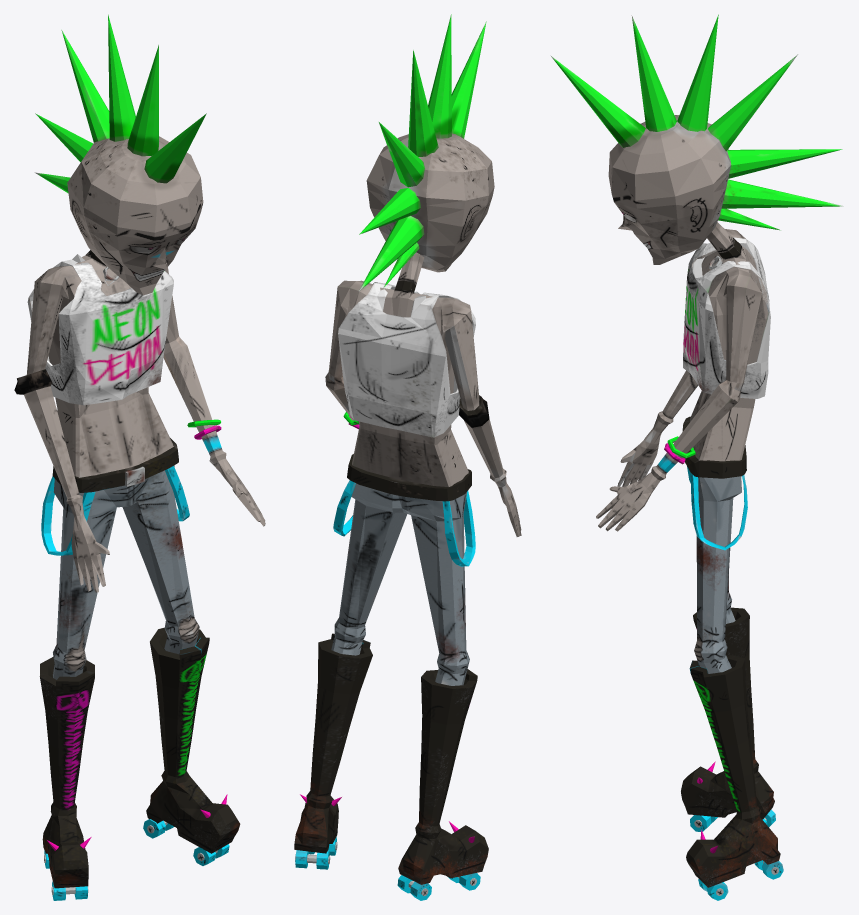
Rendered from punkAnimation_000030.obj.
The picture shows the model from 3 angles, left to right: view 1: azimuth 30°, elevation 25°; view 2: azimuth 150°, elevation 25°; view 3: azimuth 270°, elevation 25°; orthographic projection. The views are drawn at different scales.
Parts seen in each view (by area): view 1: Cube.004_Cube.003; view 2: Cube.004_Cube.003; view 3: Cube.004_Cube.003.
Part boxes in pixels (x1,y1,x2,y2): Cube.004_Cube.003: [14, 14, 265, 900]; Cube.004_Cube.003: [294, 14, 521, 900]; Cube.004_Cube.003: [550, 14, 843, 900].
Bounding box in the file's own units: 1.88 × 7.53 × 2.41.
